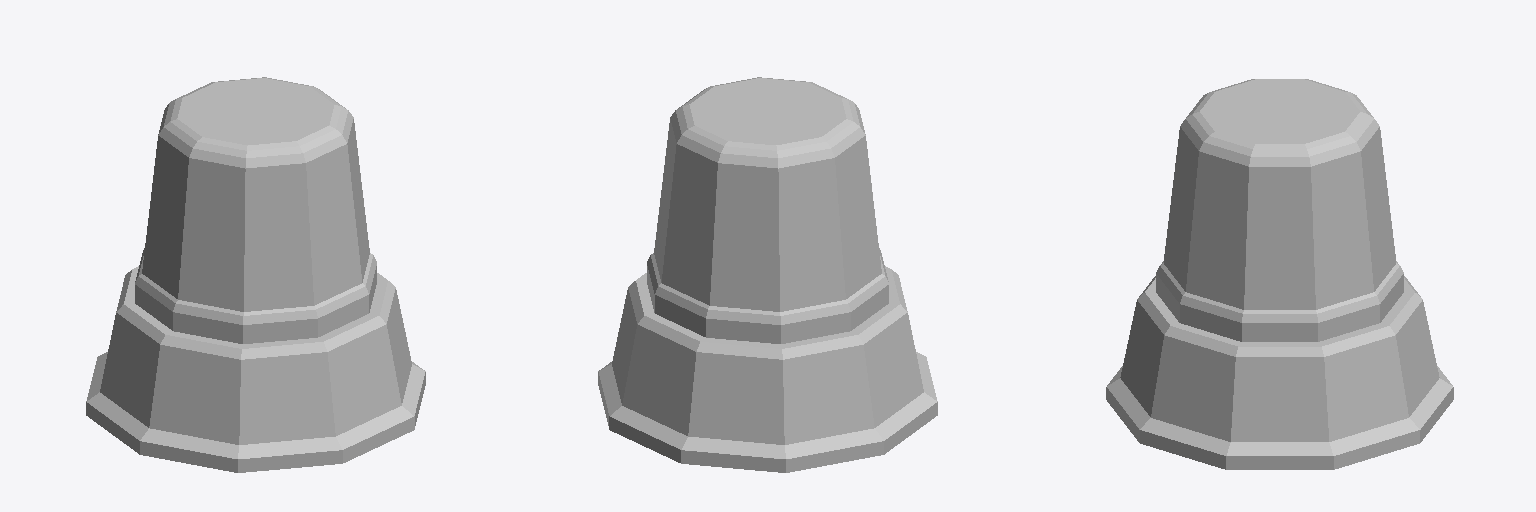
File: gyrophare.obj
3 views of the same model, side by side, from view 1: azimuth 30°, elevation 25°; view 2: azimuth 150°, elevation 25°; view 3: azimuth 270°, elevation 25° (orthographic).
Visible parts, largest first — view 1: atlasing.005; view 2: atlasing.005; view 3: atlasing.005.
Part boxes in pixels (left/top/right/bottom): atlasing.005: left=86, top=77, right=425, bottom=472; atlasing.005: left=598, top=77, right=937, bottom=472; atlasing.005: left=1106, top=79, right=1453, bottom=469.
Size of the model in its own units: 0.1963 by 0.1894 by 0.2064.